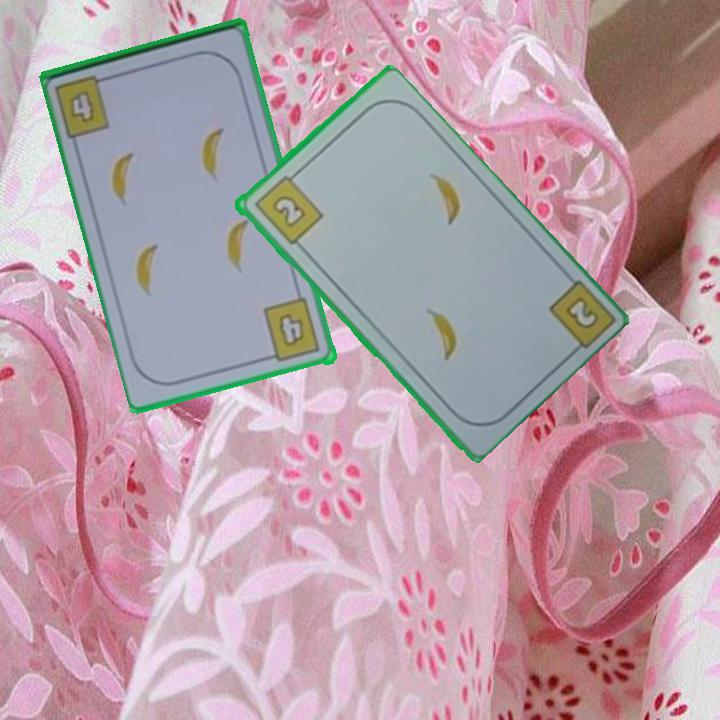2b: (250, 168, 326, 248), (561, 293, 602, 333)
4b: (260, 295, 324, 366), (66, 90, 98, 126)
